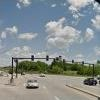Car: (20, 76, 45, 91)
